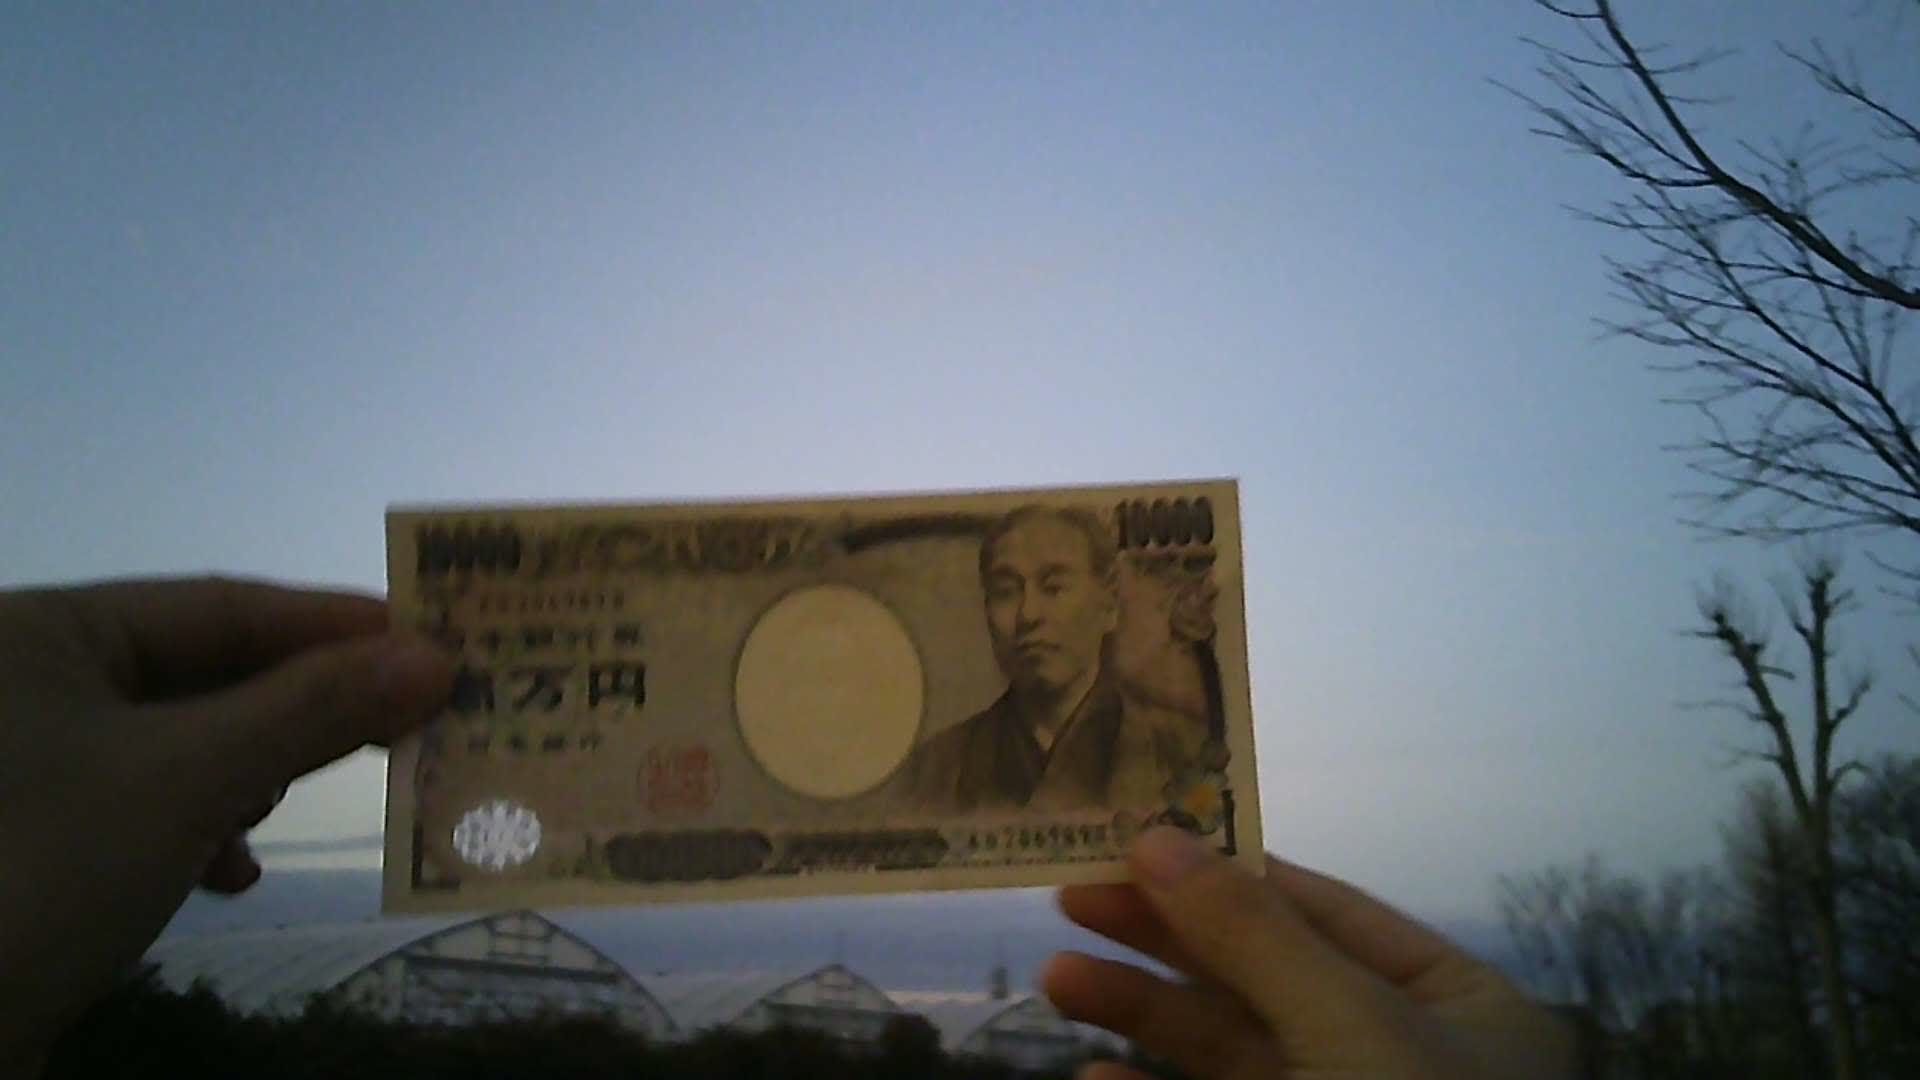10,000 Yen: (378, 483, 1265, 901)
